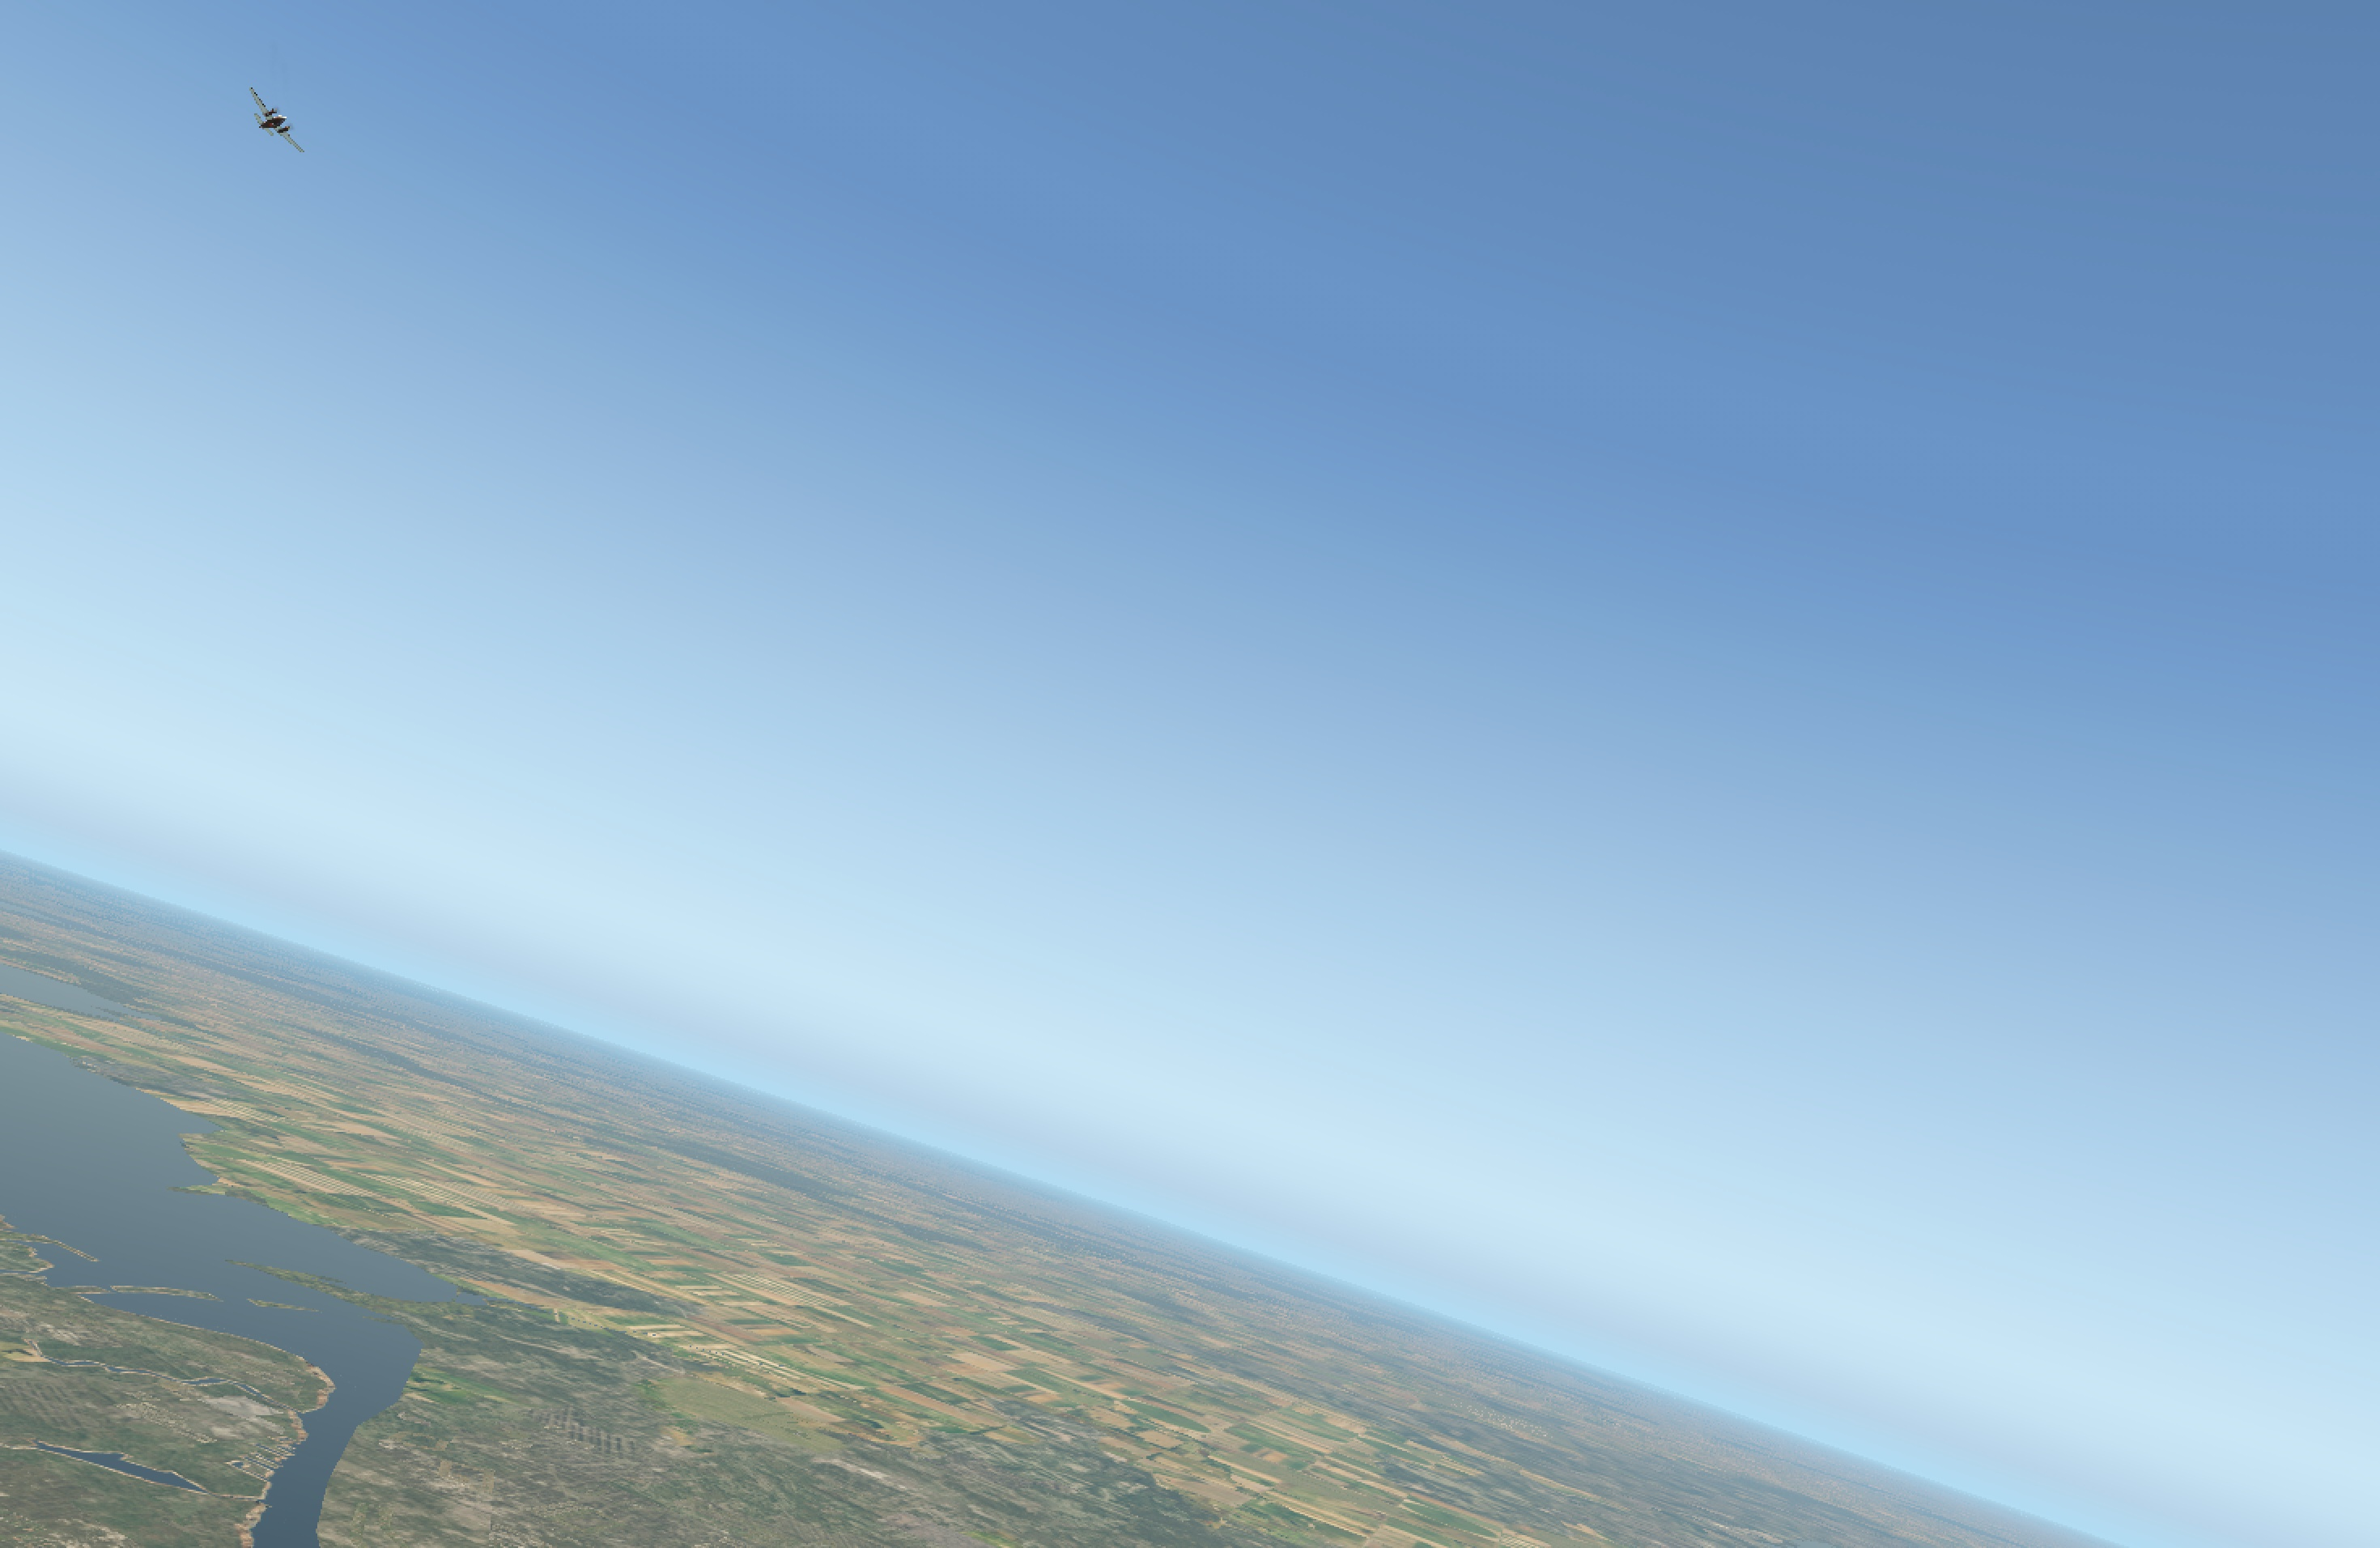aircraft: (241, 109, 309, 135)
